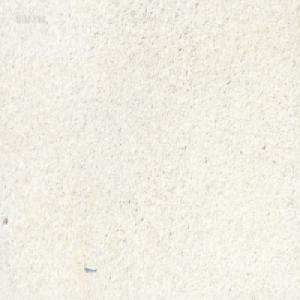Nail: (82, 262, 97, 272)
